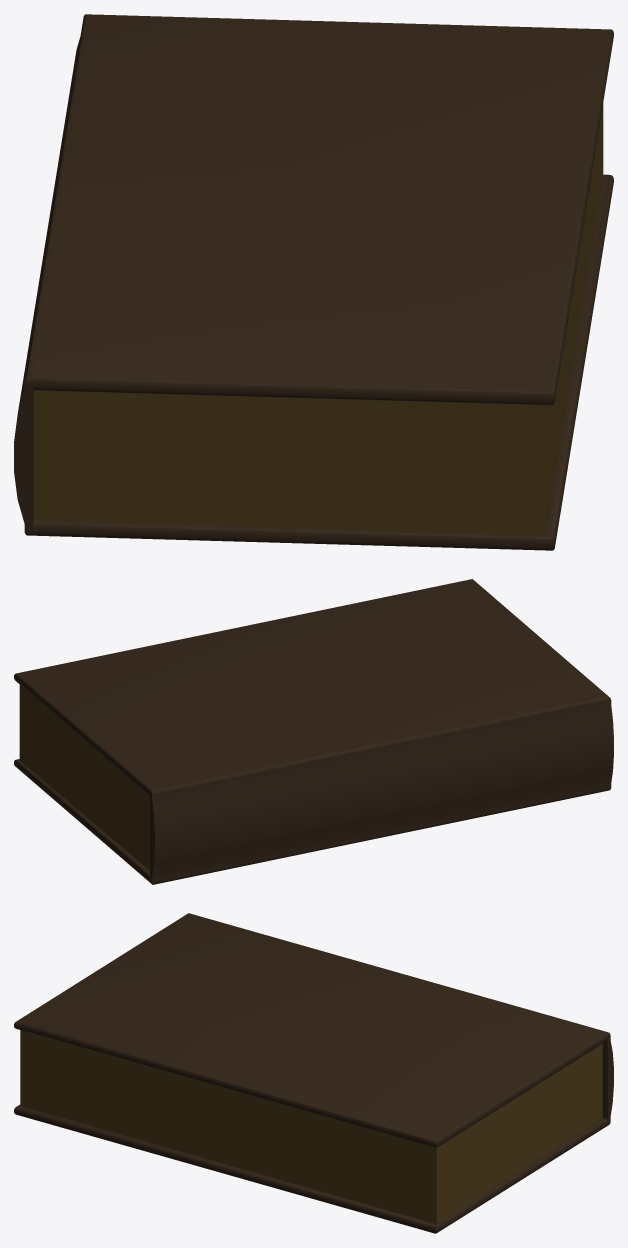
Rendered from Book.fbx.
3 views of the same model, one above another, from view 1: azimuth 30°, elevation 25°; view 2: azimuth 150°, elevation 25°; view 3: azimuth 270°, elevation 25° (orthographic). The views are drawn at different scales.
Visible parts, largest first — view 1: Book; view 2: Book; view 3: Book.
Part boxes in pixels (x1=…): Book: x1=14, y1=14, x2=613, y2=550; Book: x1=14, y1=579, x2=613, y2=884; Book: x1=14, y1=913, x2=613, y2=1233.
Size of the model in its own units: 19.15 by 3.6 by 20.96.
